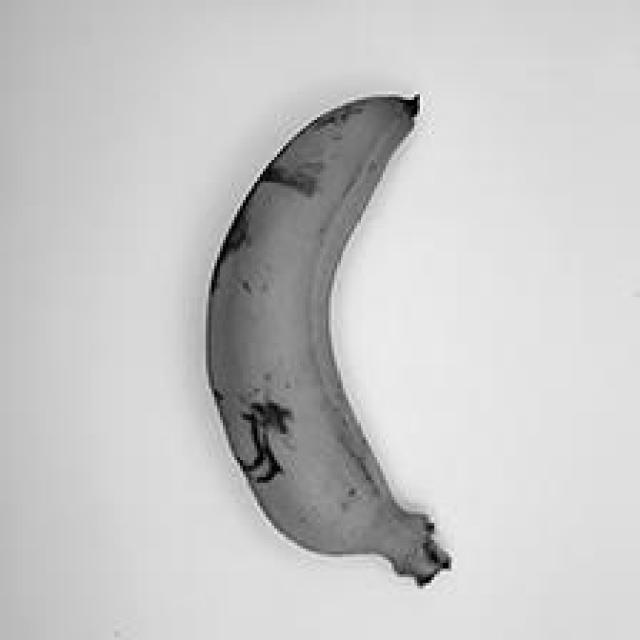Raw: (158, 68, 502, 600)
